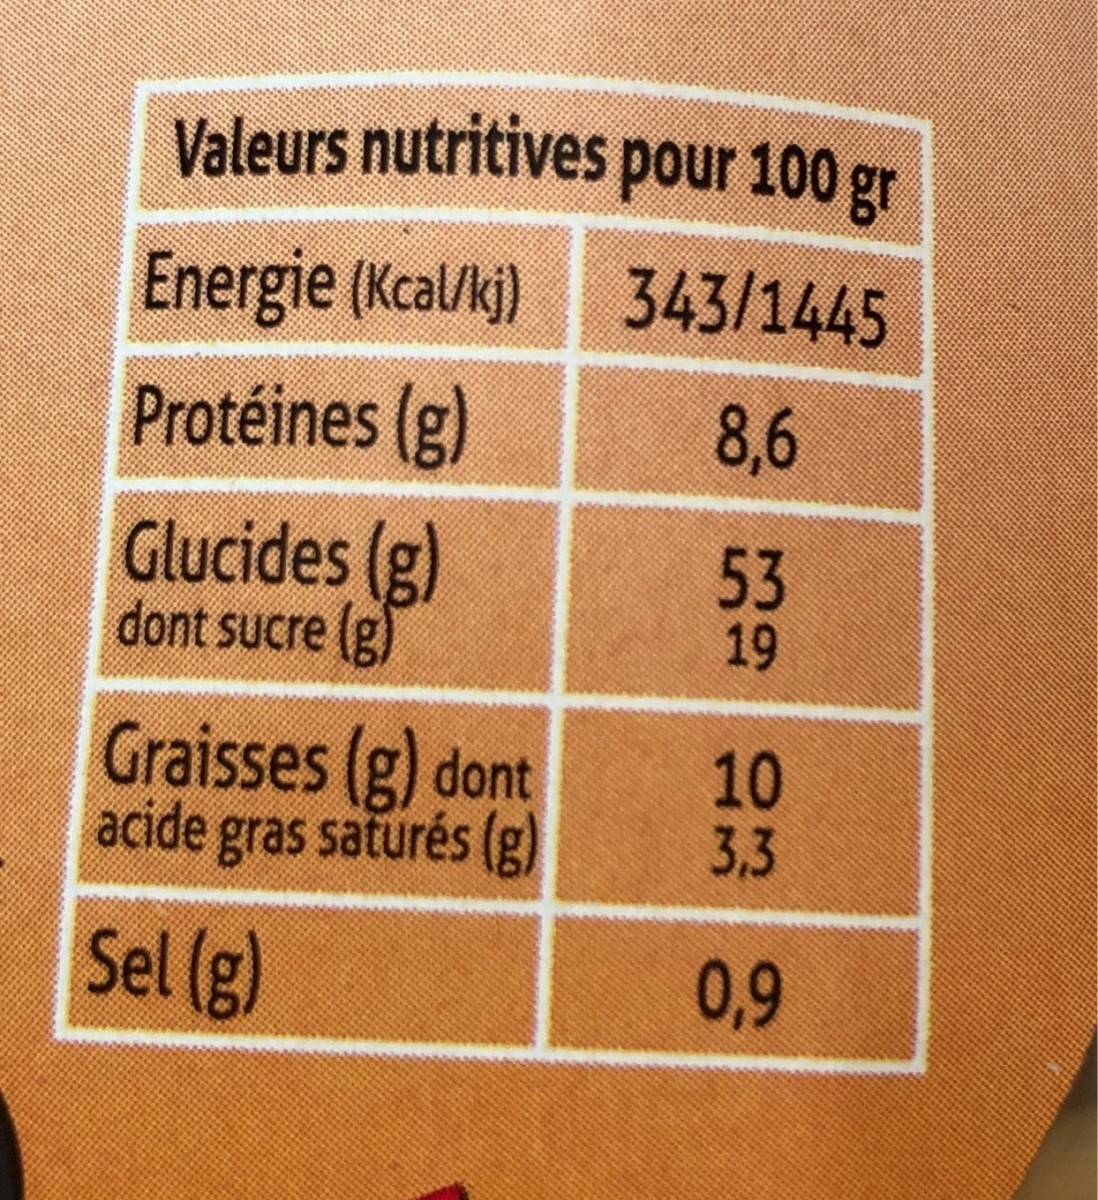column: (86, 235, 539, 1020), (622, 266, 894, 1042)
table: (49, 72, 936, 1083)
